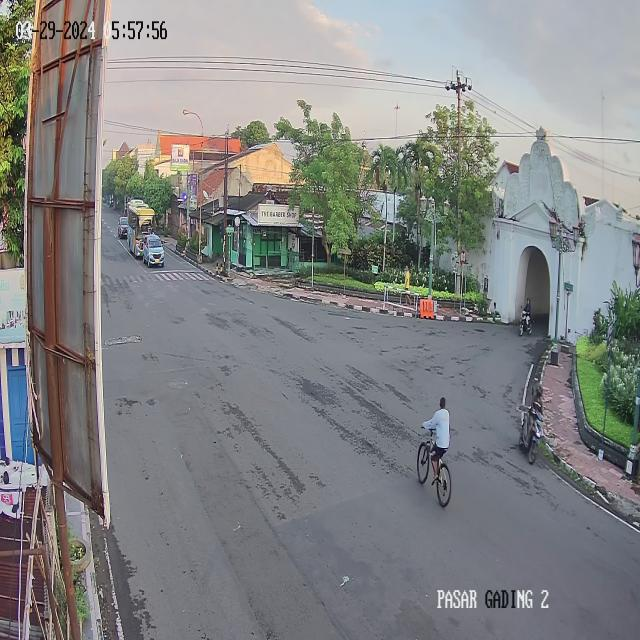bus: (127, 202, 156, 259), (127, 198, 149, 228)
car: (142, 231, 166, 269), (117, 215, 130, 240)
motorcycle: (519, 379, 546, 467), (517, 295, 535, 339)
